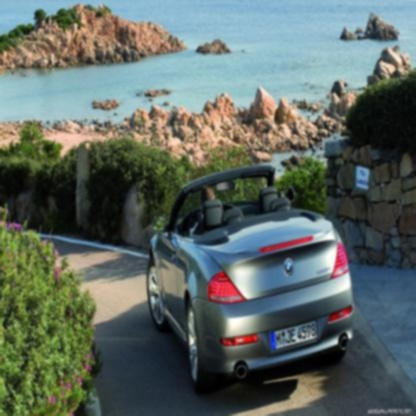Vehicle: (144, 162, 357, 401)
